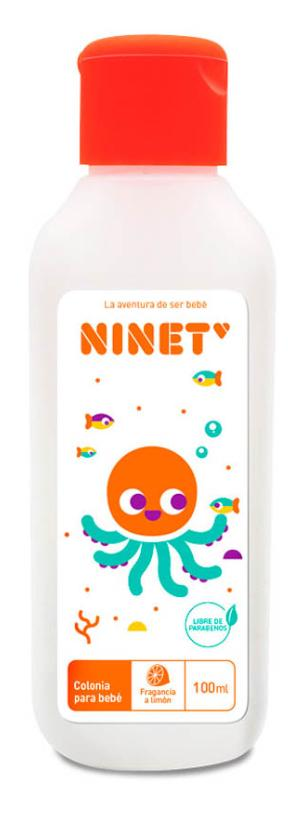brand: (78, 315, 210, 360)
net_weight: (193, 675, 232, 698)
product_name: (71, 678, 128, 708)
